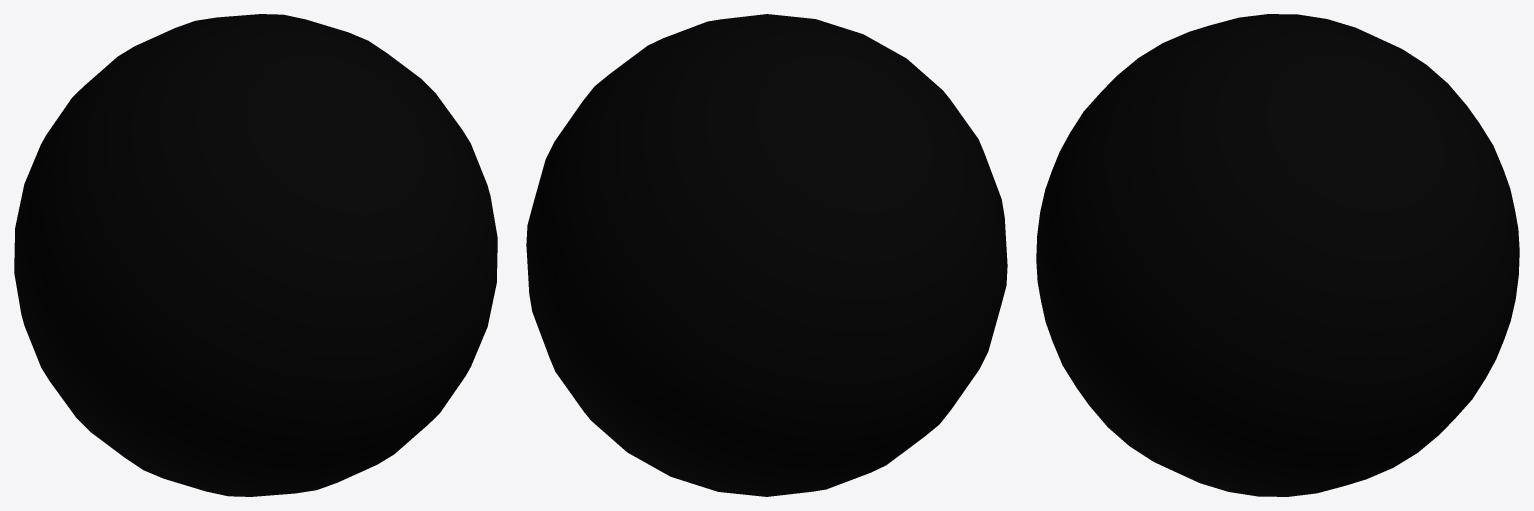
The model's file is black.glb.
The picture shows the model from 3 angles, left to right: view 1: azimuth 30°, elevation 25°; view 2: azimuth 150°, elevation 25°; view 3: azimuth 270°, elevation 25°; orthographic projection.
Parts seen in each view (by area): view 1: node_id30; view 2: node_id30; view 3: node_id30.
Boxes of the visible parts, x1,y1,x2,y2 form: node_id30: (14, 14, 497, 496); node_id30: (526, 14, 1007, 496); node_id30: (1036, 14, 1519, 496).
Size of the model in its own units: 0.511 by 0.5077 by 0.5117.
1 material, 1 textured.
